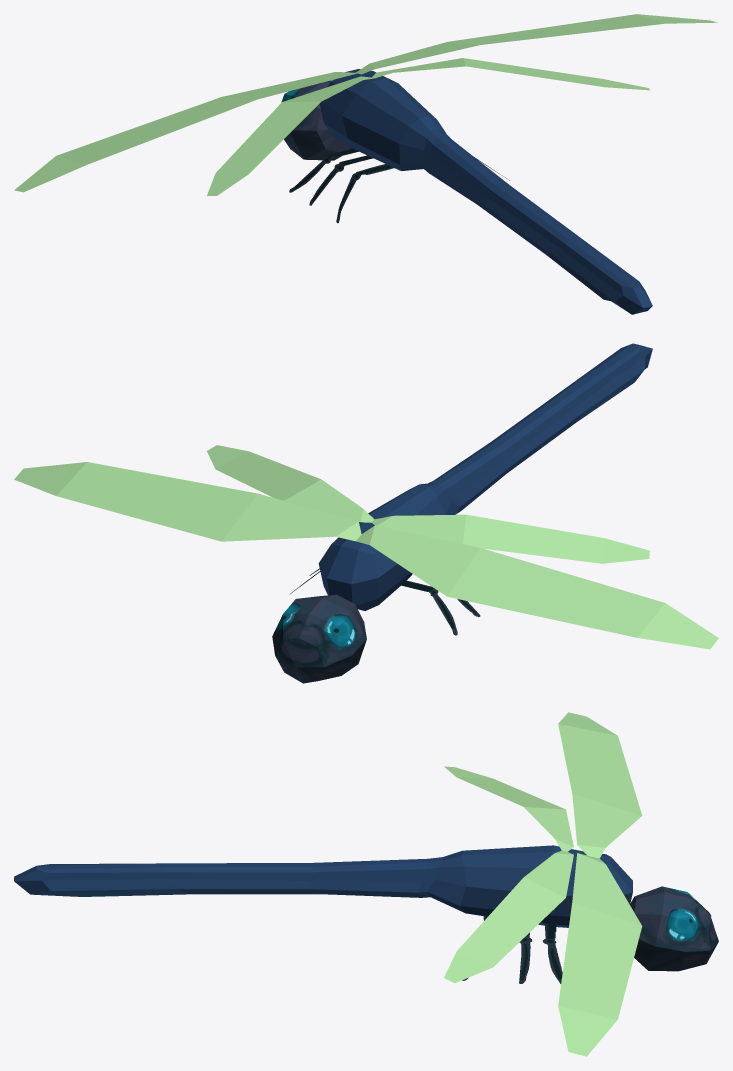
Rendered from libelula.fbx.
3 renders of one model, top to bottom at view 1: azimuth 30°, elevation 25°; view 2: azimuth 150°, elevation 25°; view 3: azimuth 270°, elevation 25°, orthographic.
Visible parts, largest first — view 1: Cube; view 2: Cube; view 3: Cube.
Boxes of the visible parts, left/top/right/bottom form: Cube: left=14, top=14, right=717, bottom=314; Cube: left=14, top=343, right=718, bottom=683; Cube: left=14, top=712, right=718, bottom=1056.
Bounding box in the file's own units: 1826 × 316 × 1600.
3 materials, 1 textured.
